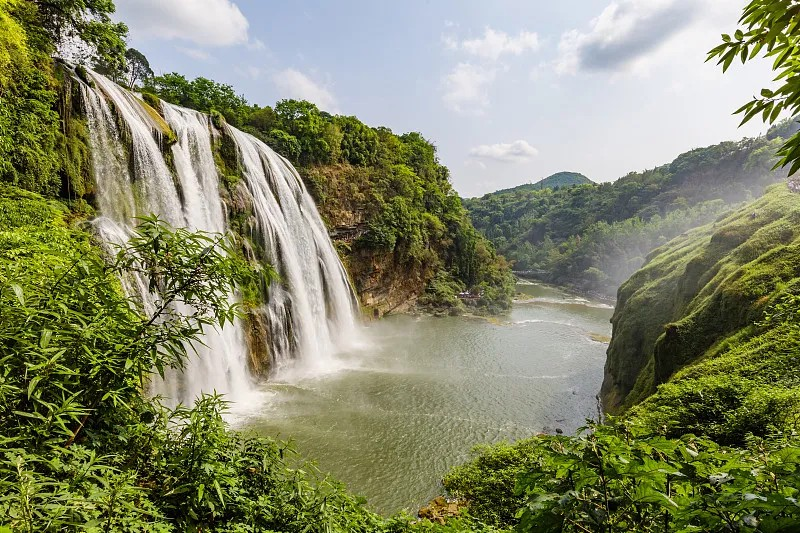Huangguoshu: (74, 67, 361, 417)
